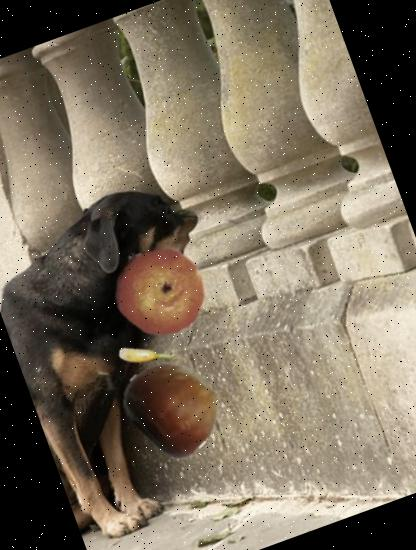Banana: (110, 318, 186, 394)
Clementine: (100, 231, 218, 350)
Nut: (110, 342, 236, 468)
